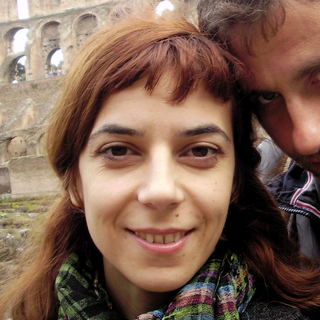eye: (173, 140, 223, 164), (93, 141, 144, 164), (249, 85, 286, 111)
